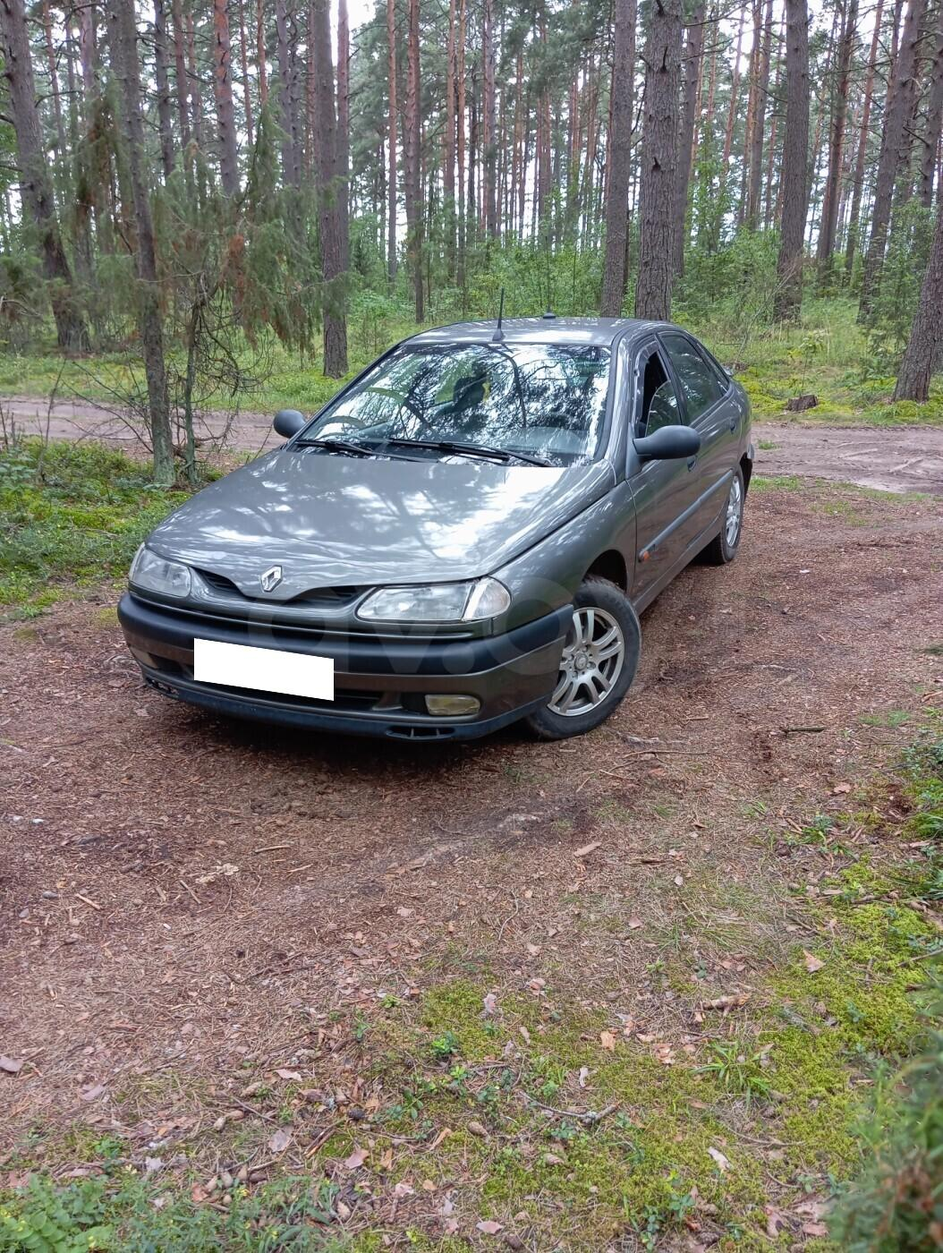Lahuna_1993-1999: (116, 306, 755, 791)
